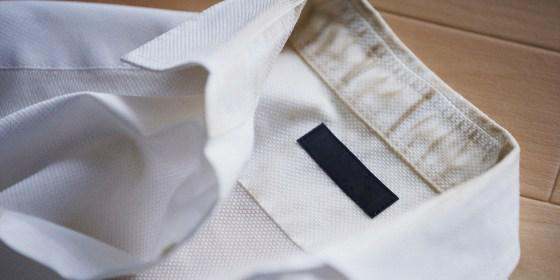gun: (295, 16, 502, 114), (397, 118, 450, 180)
